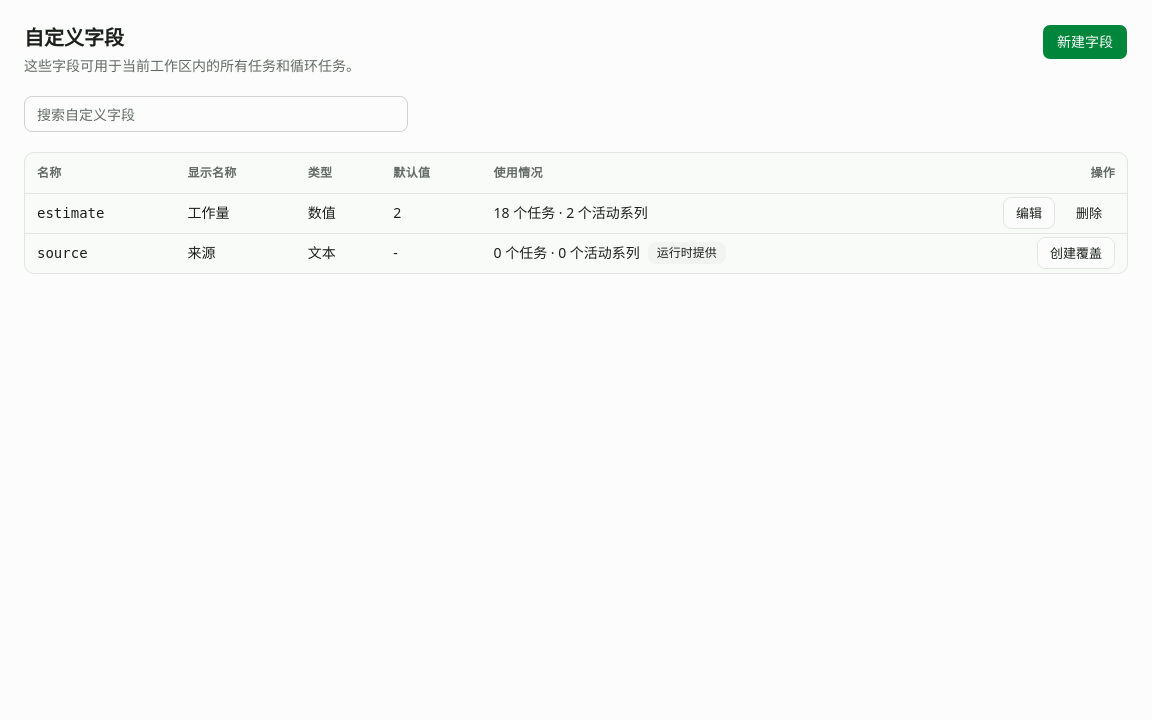
Test: WorkspaceCustomFieldsPage › shows typed usage and runtime override actions
Check: the text "工作量" is shown, box [175,193,296,233]
Check: the text "18 个任务 · 2 个活动系列" is shown, box [494,203,648,223]
Click the button "创建覆盖" at (1076, 253), box [1037,237,1115,269]
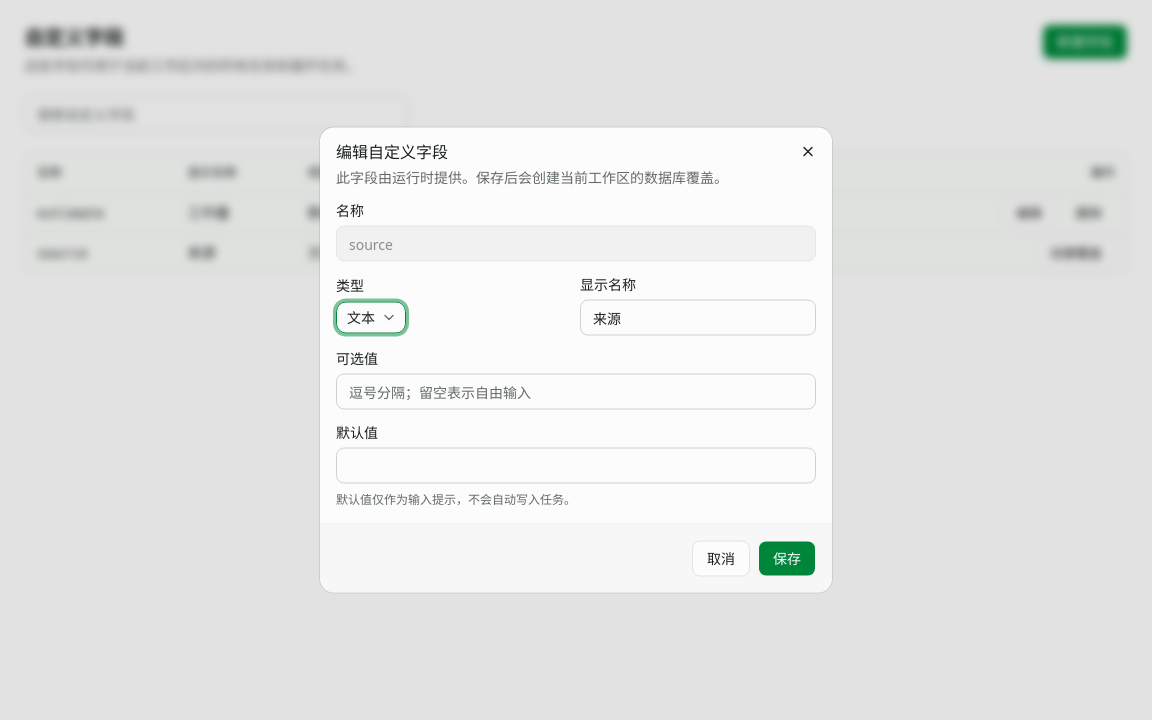
Check: the dialog is shown, box [320,128,832,592]
Check: the field showing "source" is shown, box [336,226,816,262]
